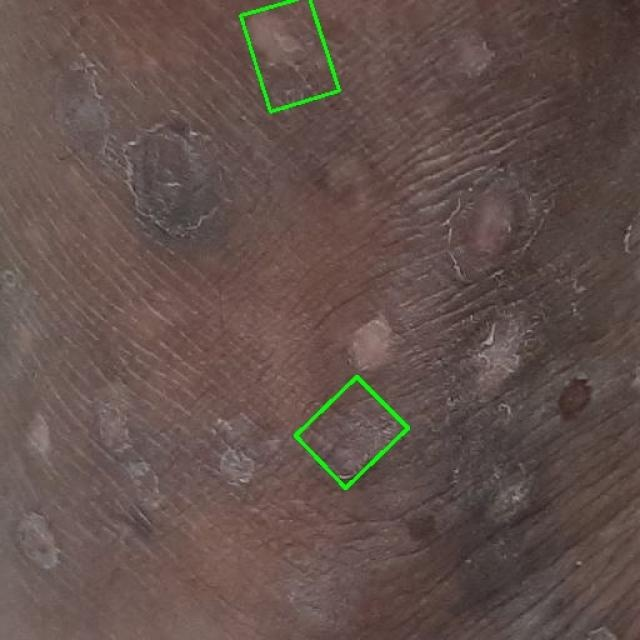Contact Dermatitis: (295, 376, 408, 489), (241, 0, 339, 112)
